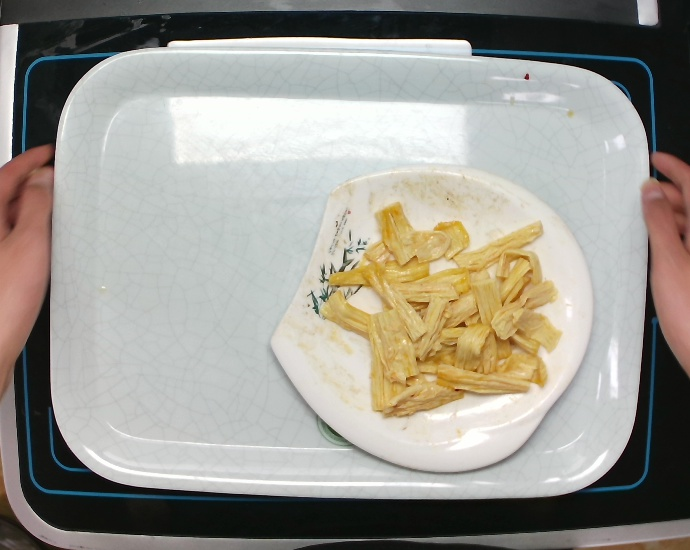JYsf-Mian_Pan: (271, 165, 597, 479)
